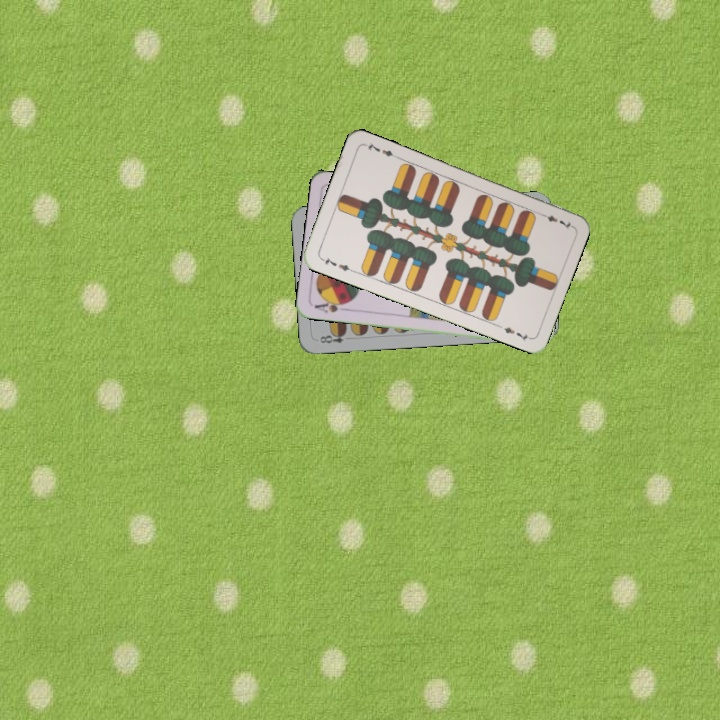E7: (317, 253, 356, 275), (536, 210, 575, 231)
E8: (316, 328, 349, 346)
SA: (310, 296, 352, 315)
